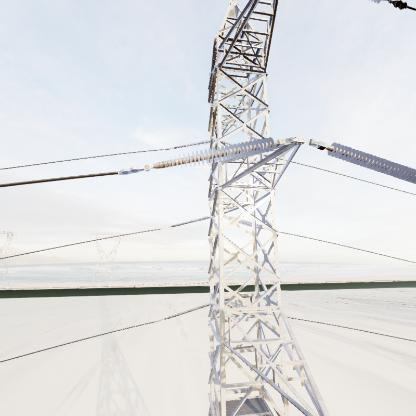insulator: (306, 132, 416, 185), (149, 135, 277, 175)
